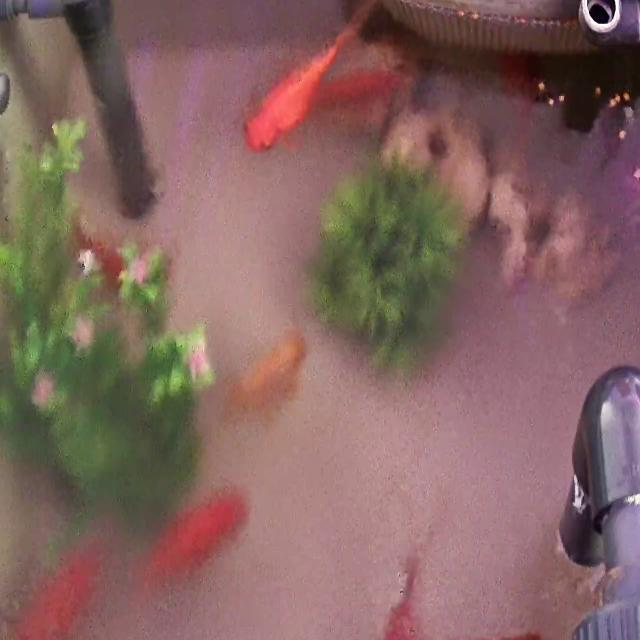fish: (249, 26, 347, 154), (140, 488, 251, 587), (0, 543, 108, 639), (225, 334, 306, 423), (350, 560, 428, 640), (71, 221, 131, 290), (309, 68, 403, 112), (495, 50, 550, 100)
